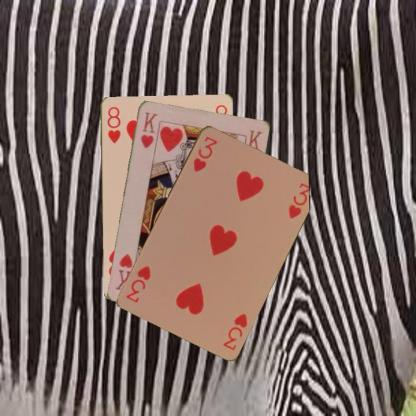3h: (220, 310, 249, 351), (190, 133, 219, 173)
8h: (104, 104, 122, 144)
Kh: (137, 109, 159, 150)
